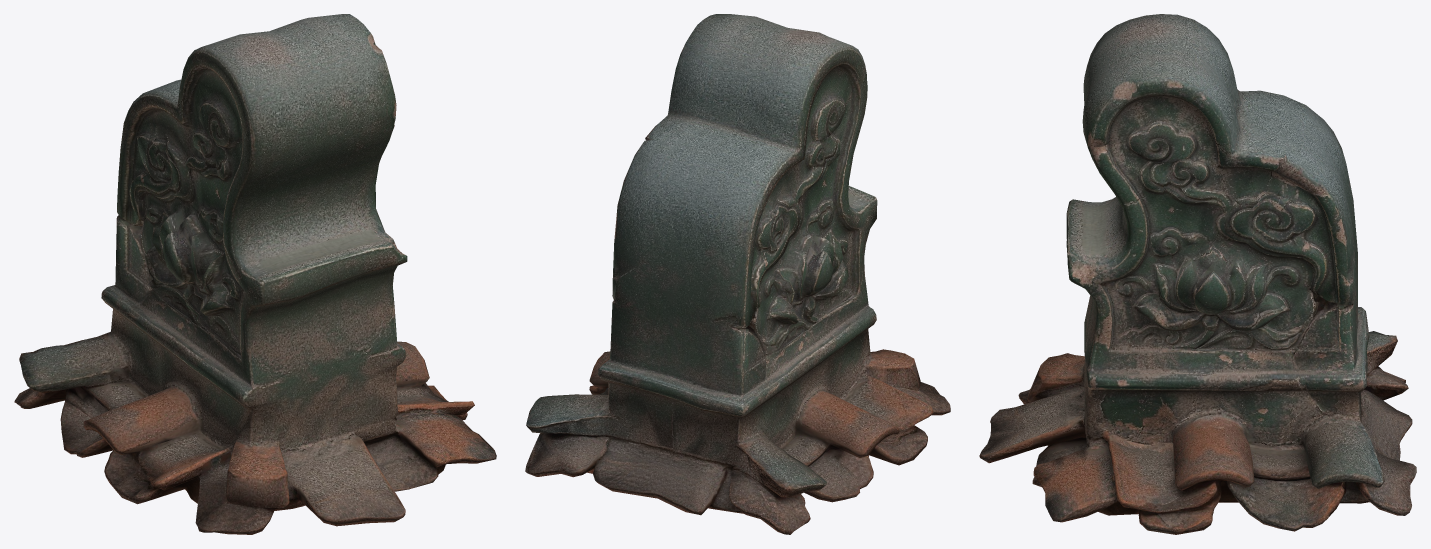
Rendered from tripo_convert_64f5c51b-4a72-4394-b972-ceb56a73135b.fbx.
3 views of the same model, side by side, from view 1: azimuth 30°, elevation 25°; view 2: azimuth 150°, elevation 25°; view 3: azimuth 270°, elevation 25° (orthographic). The views are drawn at different scales.
Parts seen in each view (by area): view 1: tripo_node_64f5c51b; view 2: tripo_node_64f5c51b; view 3: tripo_node_64f5c51b.
Boxes of the visible parts, box(x1,y1,x2,y2) form: tripo_node_64f5c51b: box(14, 14, 496, 534); tripo_node_64f5c51b: box(525, 14, 950, 534); tripo_node_64f5c51b: box(979, 14, 1416, 534).
Bounding box in the file's own units: 0.8223 × 0.998 × 0.959.
1 material, 1 textured.
